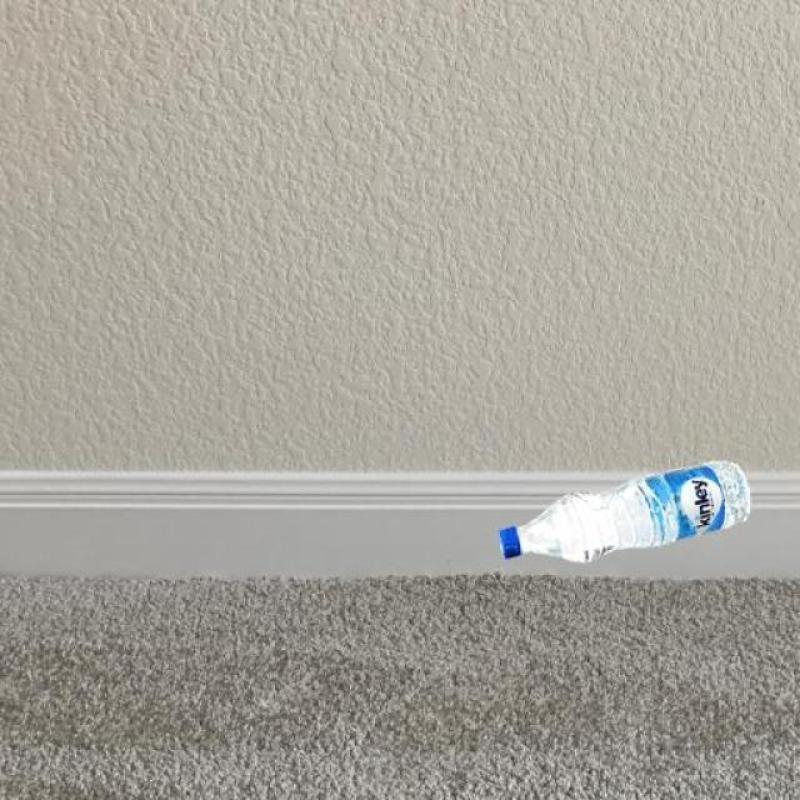botella: (499, 458, 753, 564)
